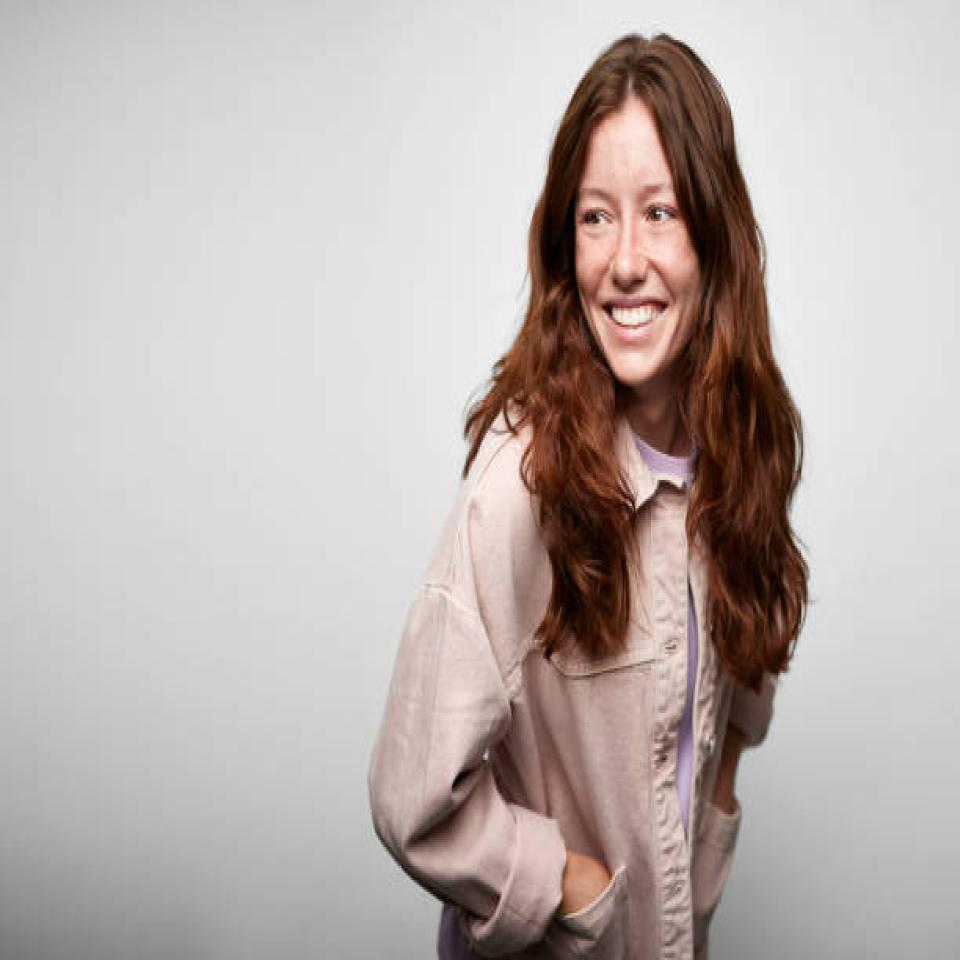Happiness: (574, 128, 707, 383)
